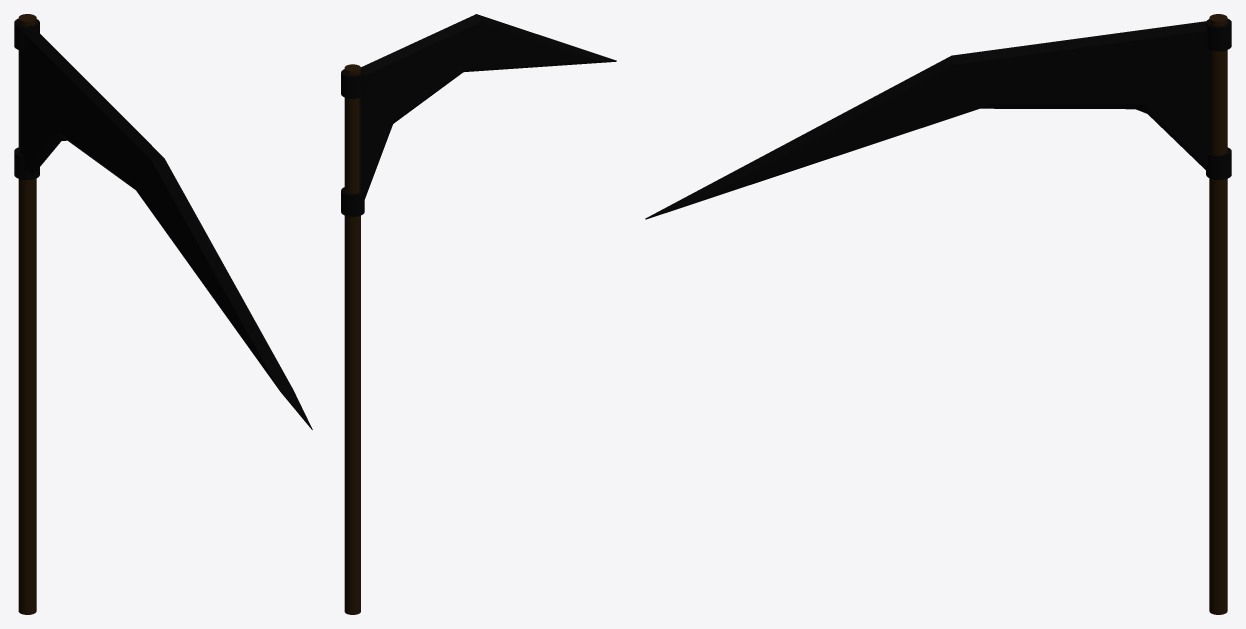
Rendered from Kosa.fbx.
3 views of the same model, side by side, from view 1: azimuth 30°, elevation 25°; view 2: azimuth 150°, elevation 25°; view 3: azimuth 270°, elevation 25° (orthographic). The views are drawn at different scales.
Parts seen in each view (by area): view 1: Kosa; view 2: Kosa; view 3: Kosa.
Part boxes in pixels (left/top/right/bottom): Kosa: left=14, top=14, right=312, bottom=614; Kosa: left=341, top=14, right=616, bottom=614; Kosa: left=645, top=14, right=1231, bottom=614.
Size of the model in its own units: 8.93 by 227 by 204.
